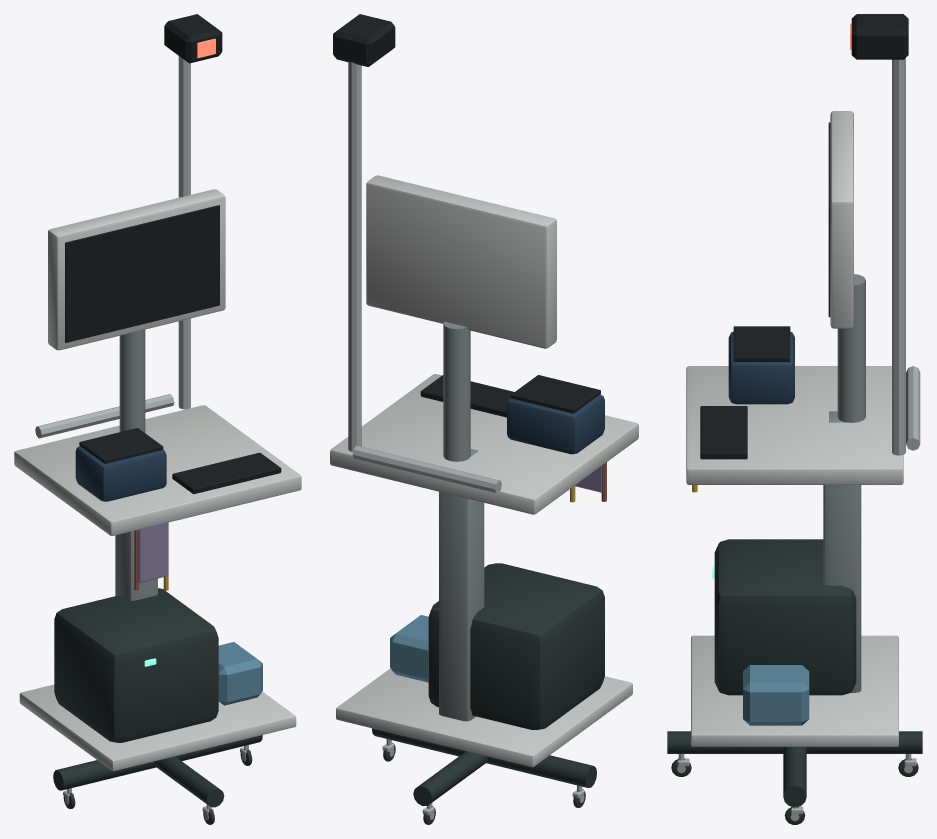
The model's file is eeg-machine.glb.
3 views of the same model, side by side, from view 1: azimuth 30°, elevation 25°; view 2: azimuth 150°, elevation 25°; view 3: azimuth 270°, elevation 25° (orthographic). The views are drawn at different scales.
Visible parts, largest first — view 1: eeg-machine; view 2: eeg-machine; view 3: eeg-machine.
Boxes of the visible parts, <box> form: eeg-machine: <box>14,14,301,824</box>; eeg-machine: <box>330,14,638,824</box>; eeg-machine: <box>667,14,922,824</box>.
Bounding box in the file's own units: 0.54 × 1.85 × 0.54.
